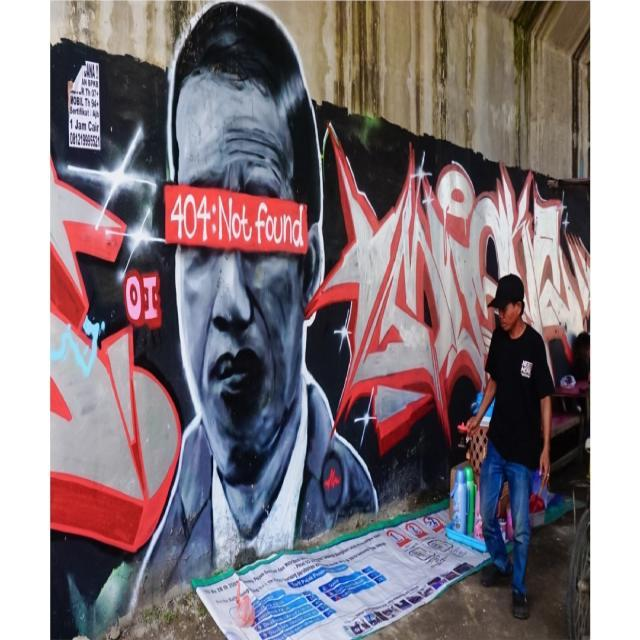-: (128, 0, 380, 612), (308, 120, 592, 452), (50, 123, 182, 551)
